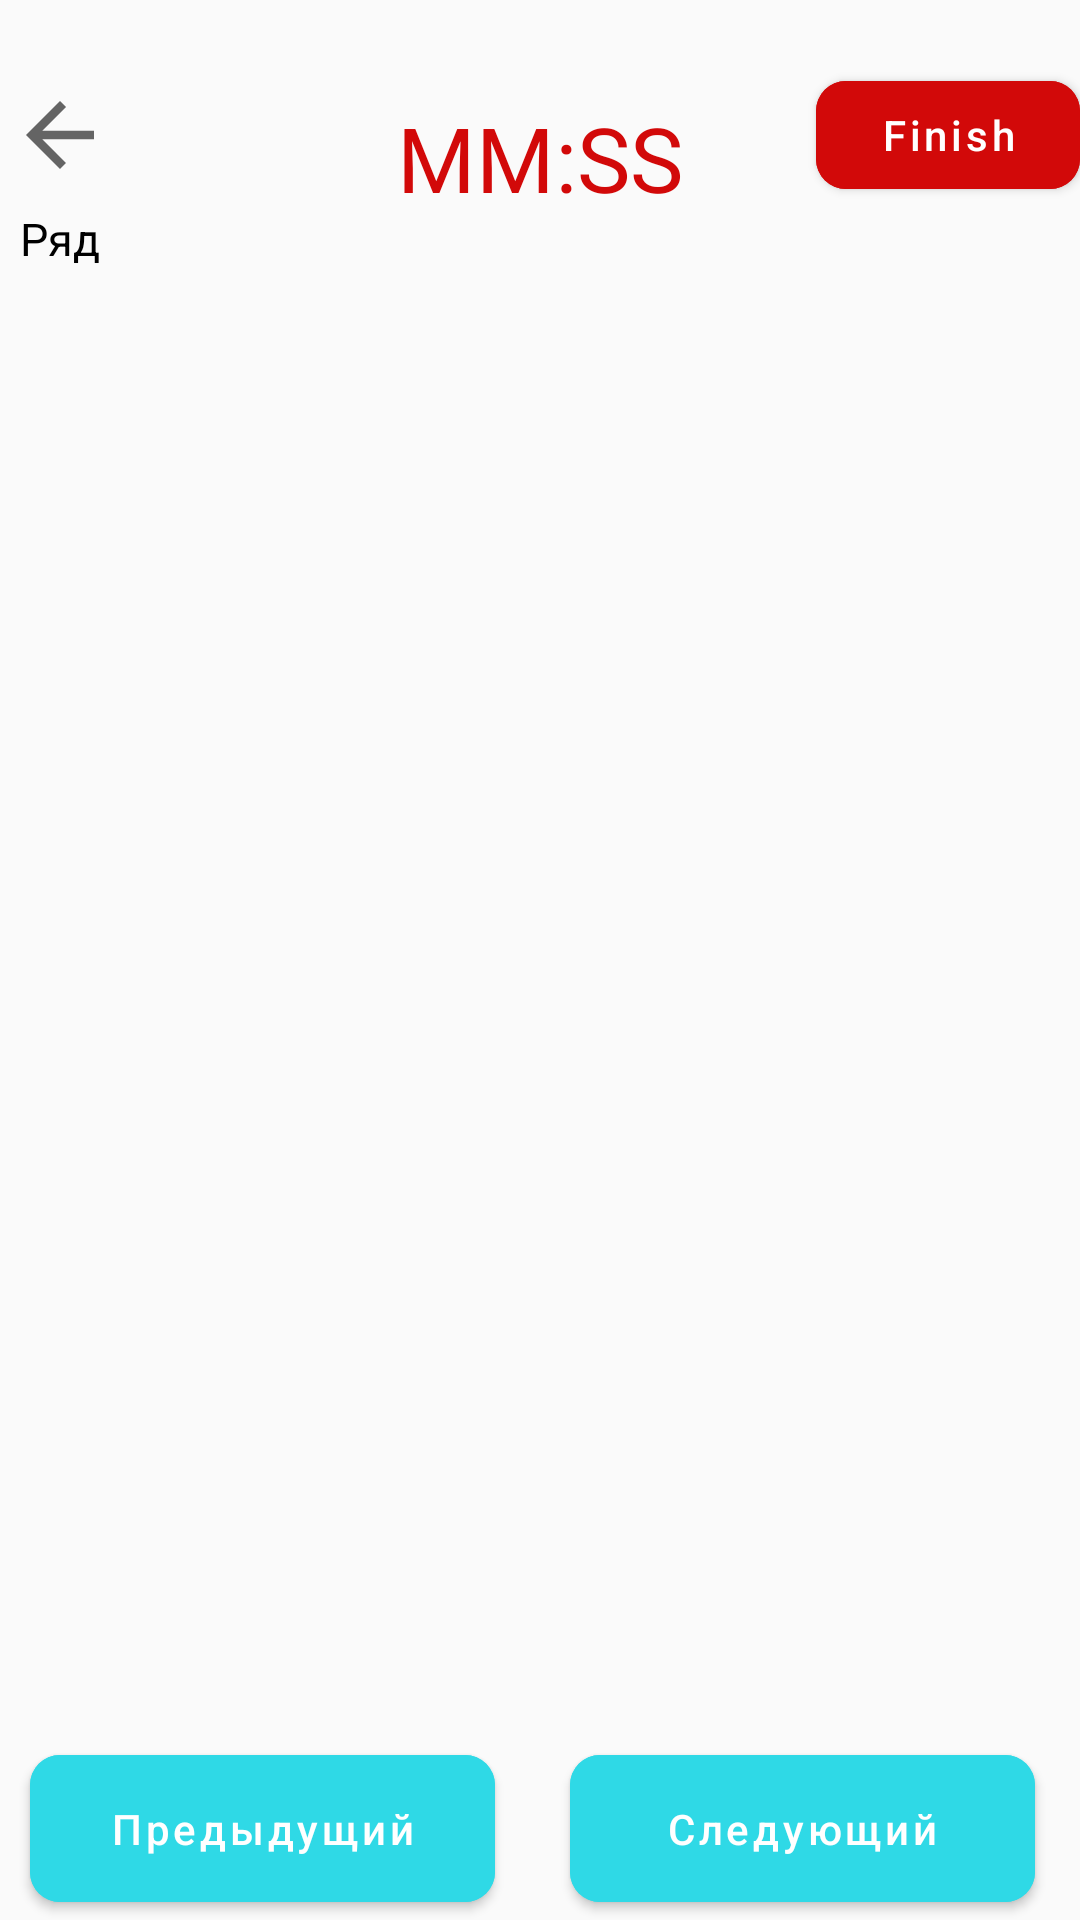

Screen size 1080 × 1920. Icon name, then its box in pixels as (x1, y1, x2, y2):
arrow back: (26, 101, 94, 169)
